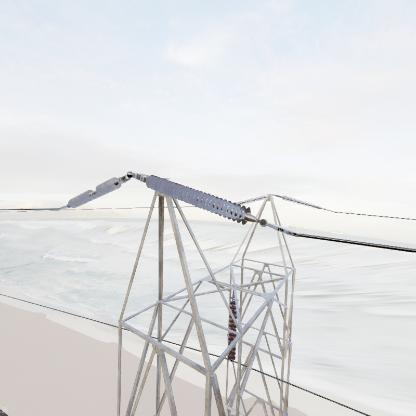insulator: (145, 172, 256, 228), (64, 175, 122, 213), (228, 301, 239, 362)
